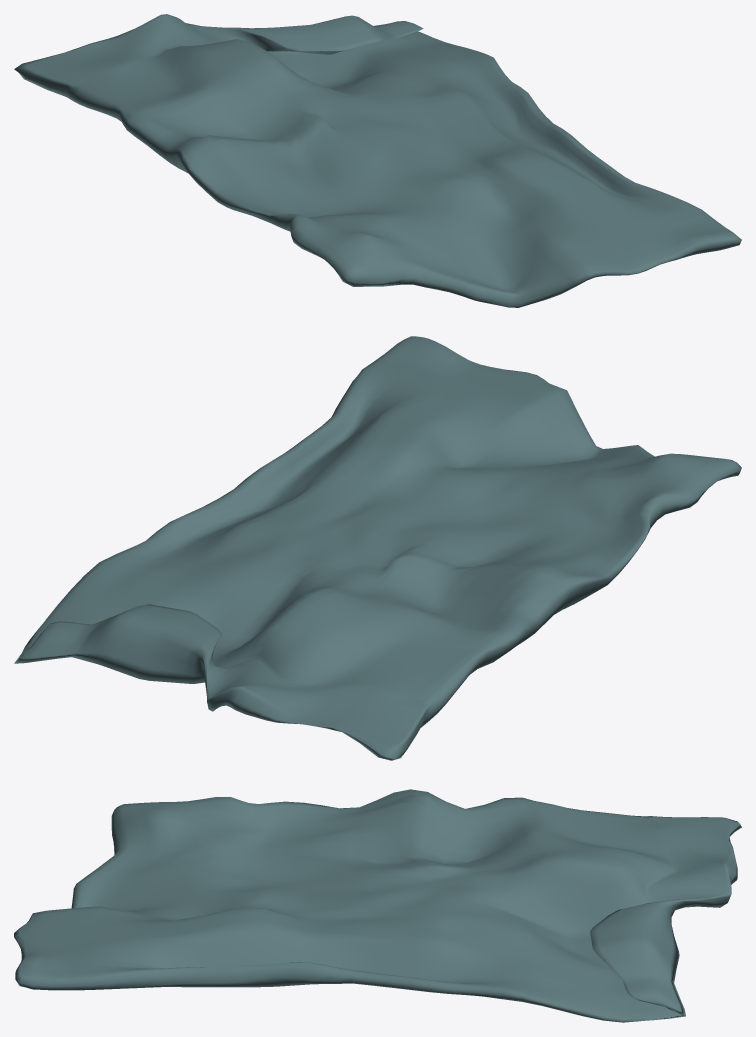
The model's file is Blanket.fbx.
The picture shows the model from 3 angles, top to bottom: view 1: azimuth 30°, elevation 25°; view 2: azimuth 150°, elevation 25°; view 3: azimuth 270°, elevation 25°; orthographic projection. The views are drawn at different scales.
Parts seen in each view (by area): view 1: pCube14; view 2: pCube14; view 3: pCube14.
Boxes of the visible parts, x1,y1,x2,y2 form: pCube14: (14,14,741,307); pCube14: (14,336,741,760); pCube14: (14,789,741,1022).
Bounding box in the file's own units: 22.37 × 3.84 × 38.18.
